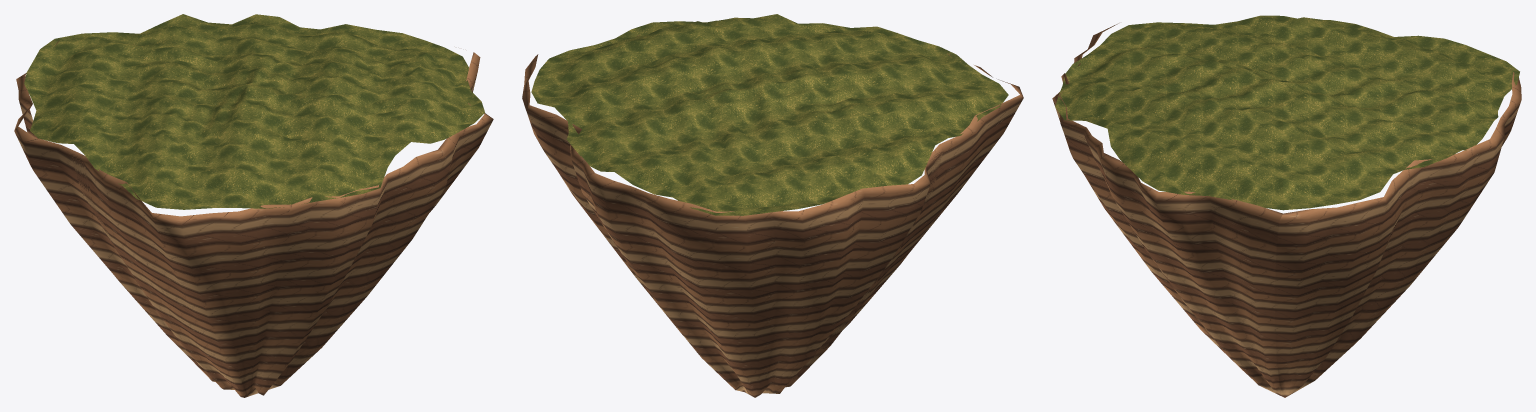
The model's file is isle0.glb.
3 views of the same model, side by side, from view 1: azimuth 30°, elevation 25°; view 2: azimuth 150°, elevation 25°; view 3: azimuth 270°, elevation 25° (orthographic).
Parts seen in each view (by area): view 1: Island; view 2: Island; view 3: Island.
Part boxes in pixels (<box>): Island: <box>14,14,493,397</box>; Island: <box>522,14,1023,397</box>; Island: <box>1052,15,1521,397</box>.
Bounding box in the file's own units: 202 × 143 × 195.
Materials: 2 (2 with a texture image).
